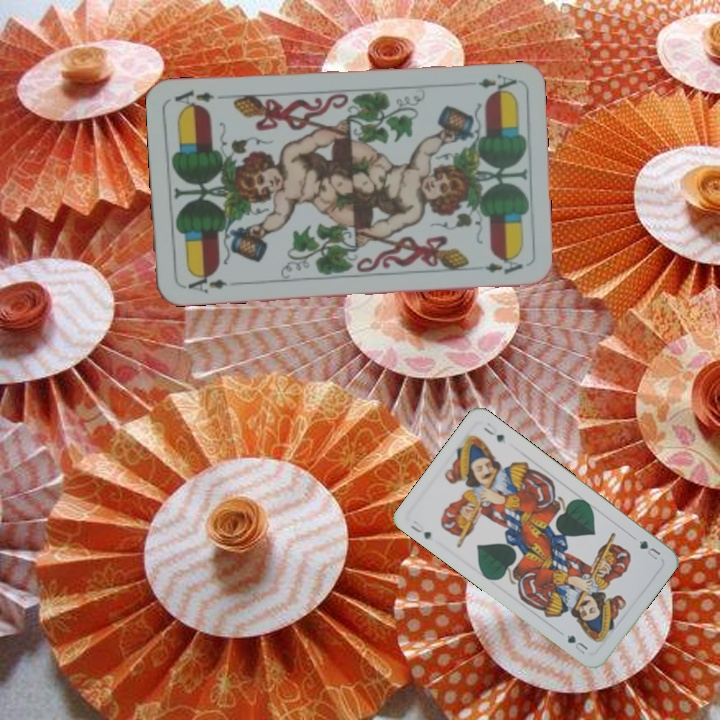EA: (184, 269, 229, 296), (474, 70, 519, 97)
GU: (629, 533, 663, 562), (406, 521, 434, 542)
